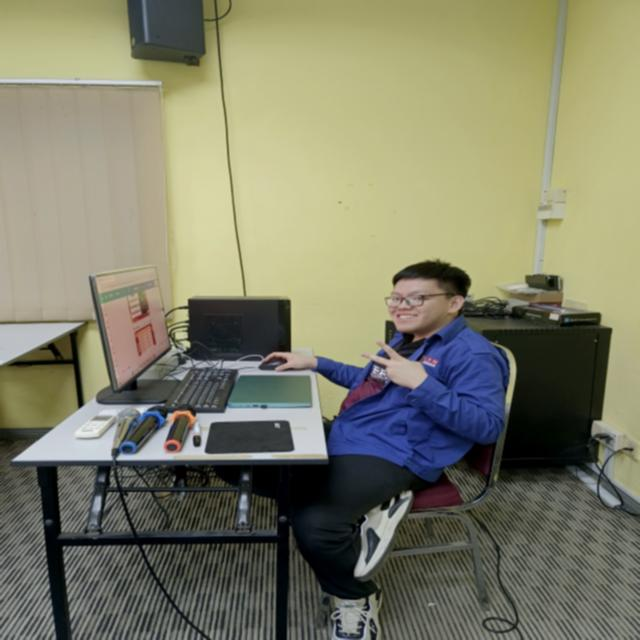person_with_labcoat: (267, 260, 509, 640)
